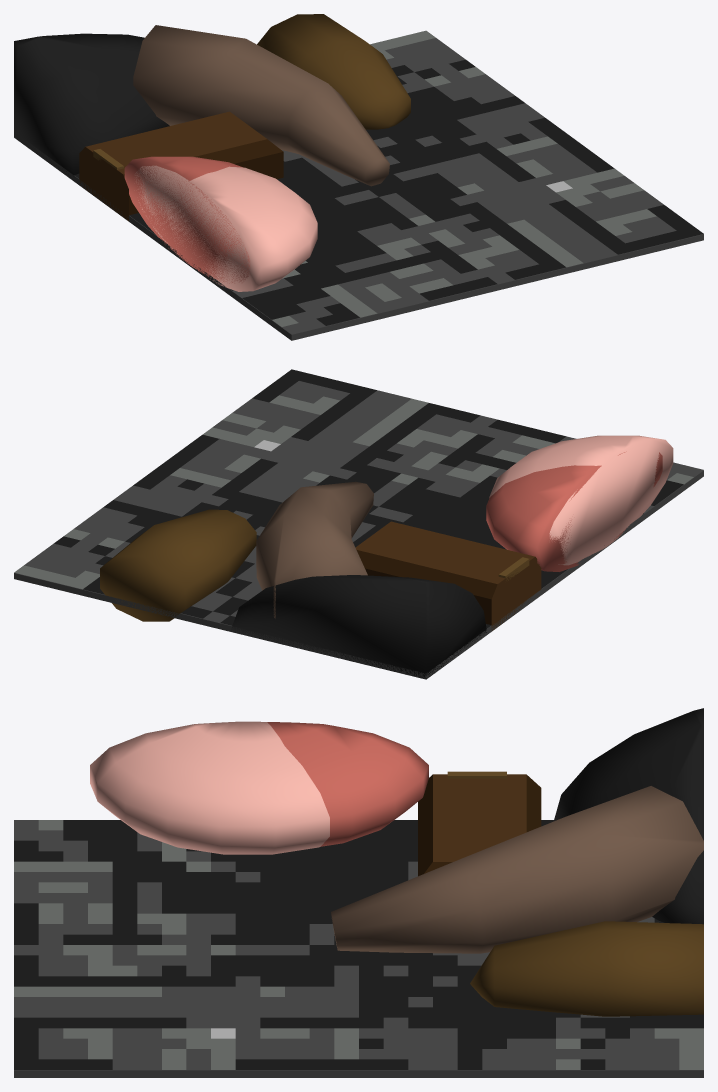
Rendered from newshs-79-f2.glb.
3 renders of one model, top to bottom at view 1: azimuth 30°, elevation 25°; view 2: azimuth 150°, elevation 25°; view 3: azimuth 270°, elevation 25°, orthographic. The views are drawn at different scales.
Visible parts, largest first — view 1: newshs-79, newshs-79-ball-bright, newshs-79-ball-dim; view 2: newshs-79, newshs-79-ball-bright, newshs-79-ball-dim; view 3: newshs-79, newshs-79-ball-bright, newshs-79-ball-dim.
Part boxes in pixels (left/top/right/bottom): newshs-79: left=14, top=14, right=703, bottom=340; newshs-79-ball-bright: left=135, top=165, right=317, bottom=291; newshs-79-ball-dim: left=124, top=156, right=250, bottom=283; newshs-79: left=14, top=369, right=703, bottom=679; newshs-79-ball-bright: left=489, top=435, right=673, bottom=565; newshs-79-ball-dim: left=486, top=451, right=662, bottom=571; newshs-79: left=14, top=708, right=703, bottom=1077; newshs-79-ball-bright: left=90, top=721, right=329, bottom=854; newshs-79-ball-dim: left=267, top=722, right=428, bottom=846.
Bounding box in the file's own units: 2 × 0.5075 × 2.33.
